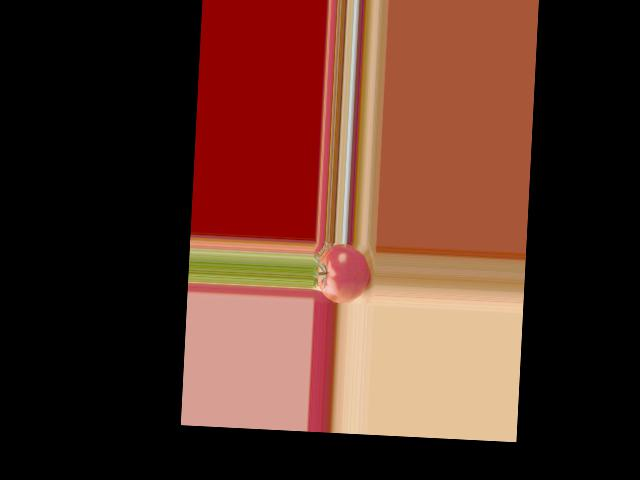tomato: (316, 243, 370, 304)
